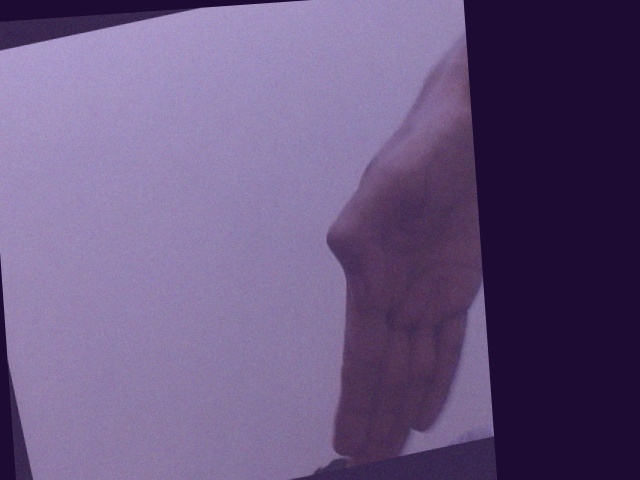hand: (321, 58, 483, 464)
